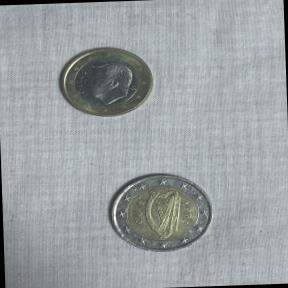1 Euro-B: (52, 42, 158, 120)
2 Euro-B: (102, 168, 218, 255)
